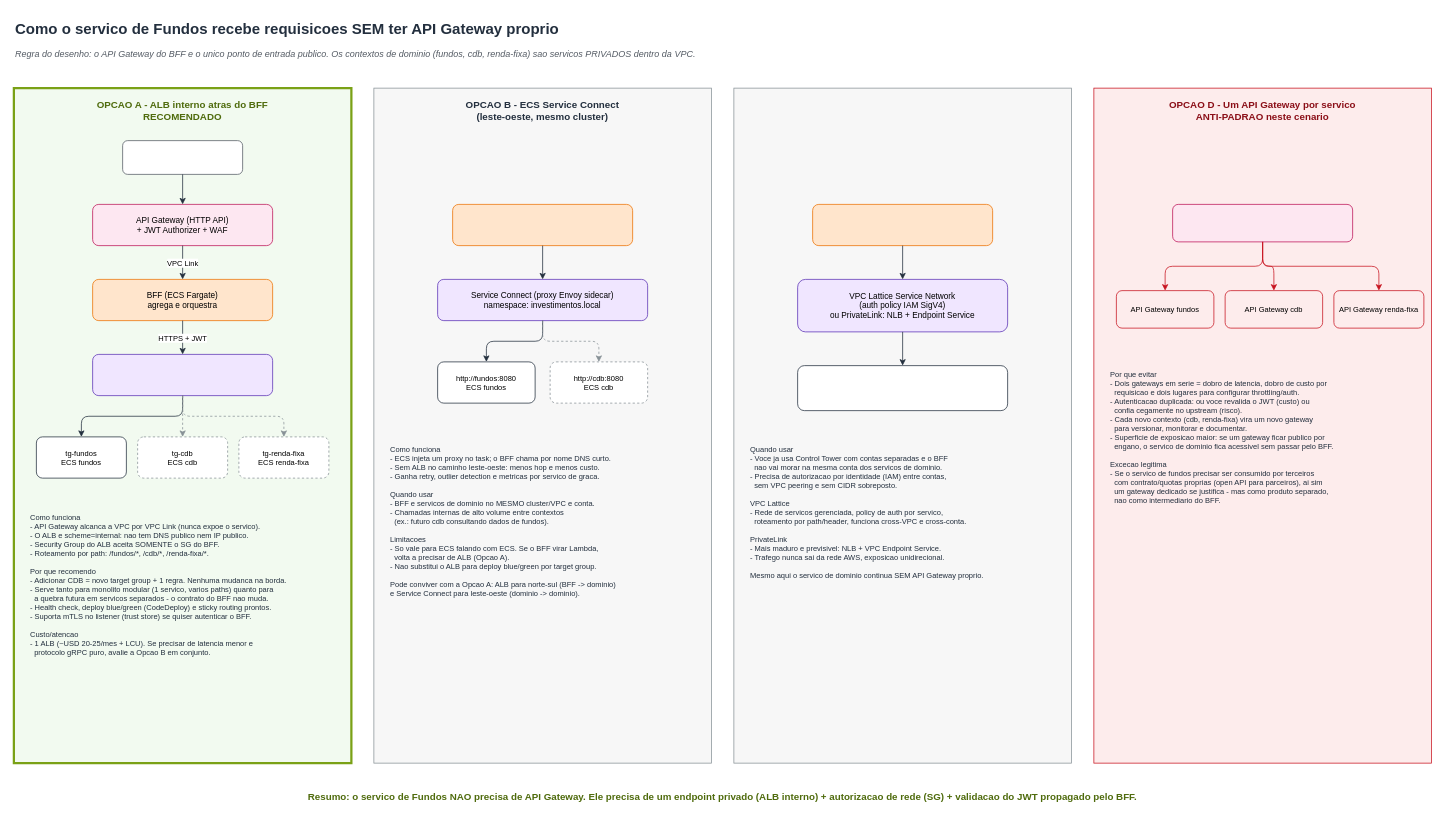
This 1445x824 diagram has some shape labels left out. The shapes that lost their labels are listed below. From the top down, each one's box as (x1, y1, x2, y2) in pixels, then its label:
(122, 140, 243, 174): Cliente
(452, 204, 633, 246): BFF (ECS Fargate)
(812, 204, 993, 246): Conta A - BFF API Gateway + ECS
(1172, 204, 1353, 242): API Gateway do BFF
(92, 354, 273, 396): ALB INTERNO listener 443 - regras por path
(797, 365, 1008, 411): Conta B - Workload ALB interno + ECS fundos / cdb / renda-fixa
(733, 87, 1071, 763): OPCAO C - VPC Lattice ou PrivateLink (BFF em OUTRA conta/VPC)
